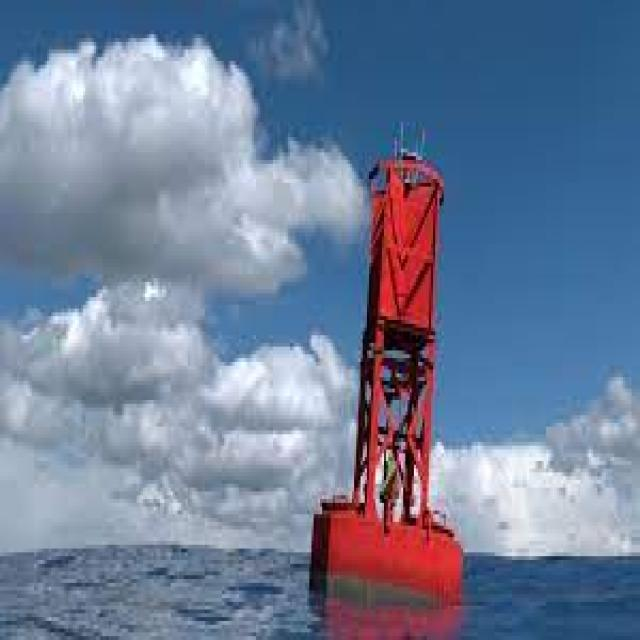2.1 lateral mark -P-: (297, 75, 470, 619)
